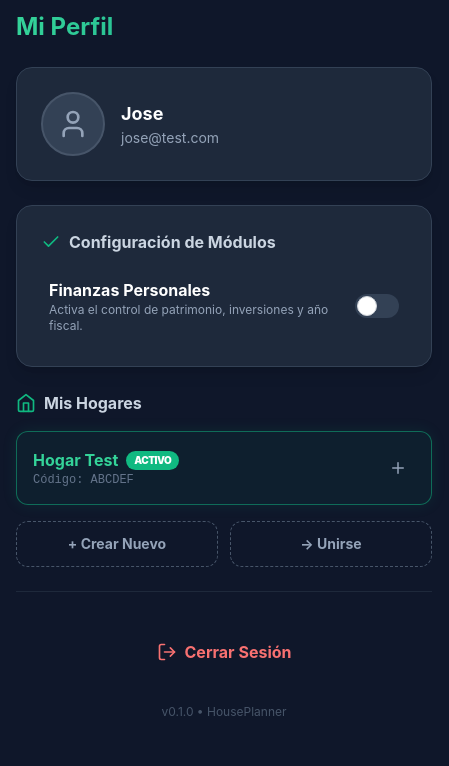
Profile Component › expands household to show members
Expected: the heading "Hogar Test" is shown, [33,448,118,472]
Click on "+" button to expand
Click the button titled "Ver miembros" at (398, 468), box [381,451,415,485]
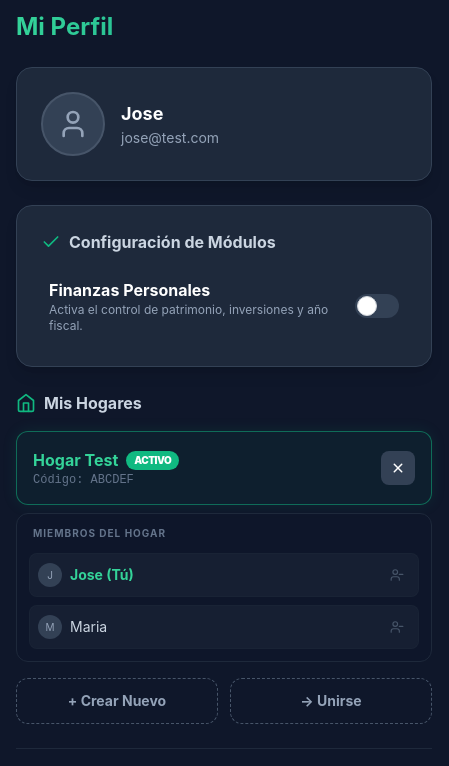
Expected: the text "Maria" is shown, [70,617,107,637]
Expected: the text "Jose (Tú)" is shown, [70,565,134,585]
